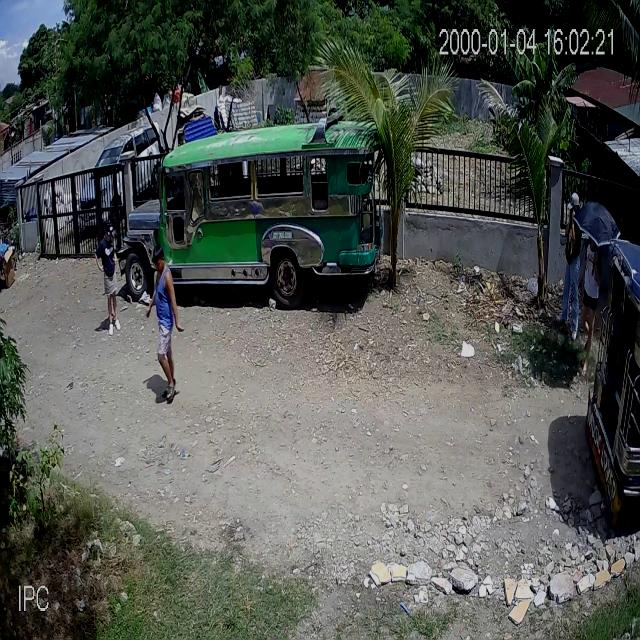standing: (558, 190, 581, 344), (96, 221, 123, 339)
walking: (151, 242, 183, 402), (582, 231, 603, 379)
